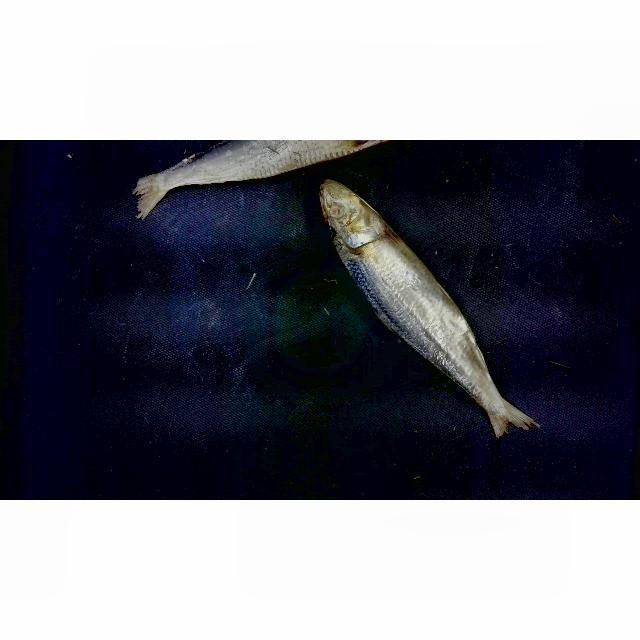Grade_A_Body: (337, 257, 509, 376)
Grade_A_Head: (299, 180, 411, 254)
Grade_A_Tail: (421, 361, 558, 448), (122, 148, 277, 219)
